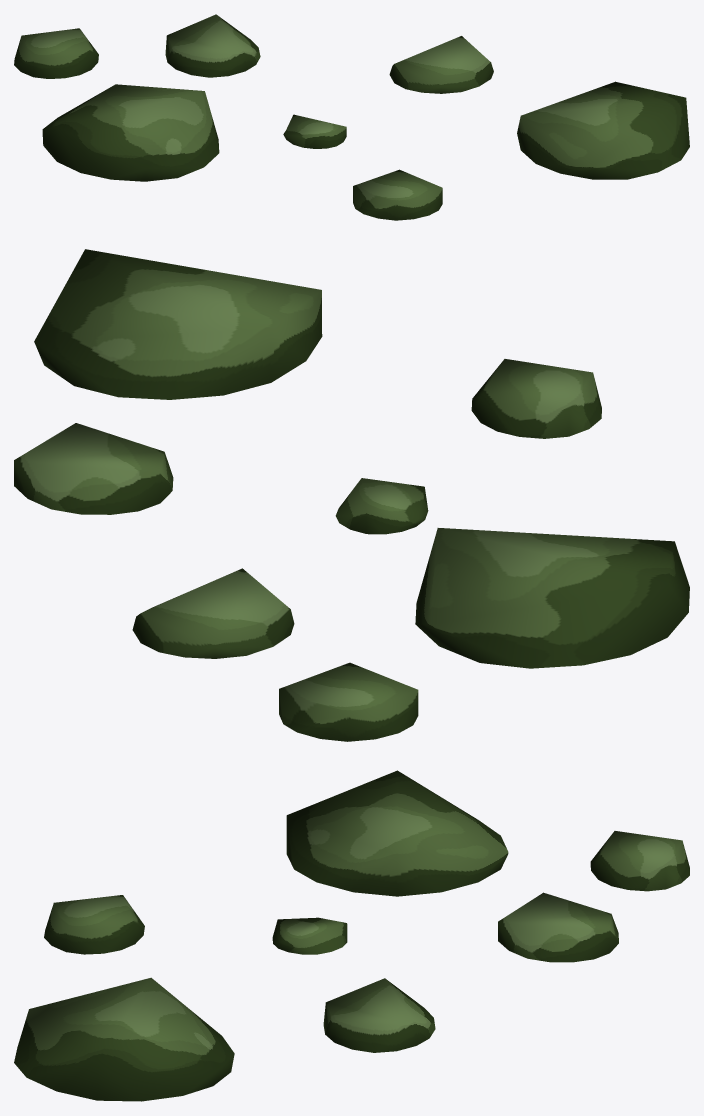
Rendered from Rock 2x 2 7_preview_3DS_simplified.glb.
3 renders of one model, top to bottom at view 1: azimuth 30°, elevation 25°; view 2: azimuth 150°, elevation 25°; view 3: azimuth 270°, elevation 25°, orthographic. The views are drawn at different scales.
Parts seen in each view (by area): view 1: Marine Park Empire model; view 2: Marine Park Empire model; view 3: Marine Park Empire model.
Boxes of the visible parts, x1,y1,x2,y2 form: Marine Park Empire model: (14, 14, 689, 220); Marine Park Empire model: (14, 249, 689, 741); Marine Park Empire model: (14, 770, 689, 1101).
Size of the model in its own units: 47.59 by 3.24 by 46.64.
Materials: 1 (1 with a texture image).
